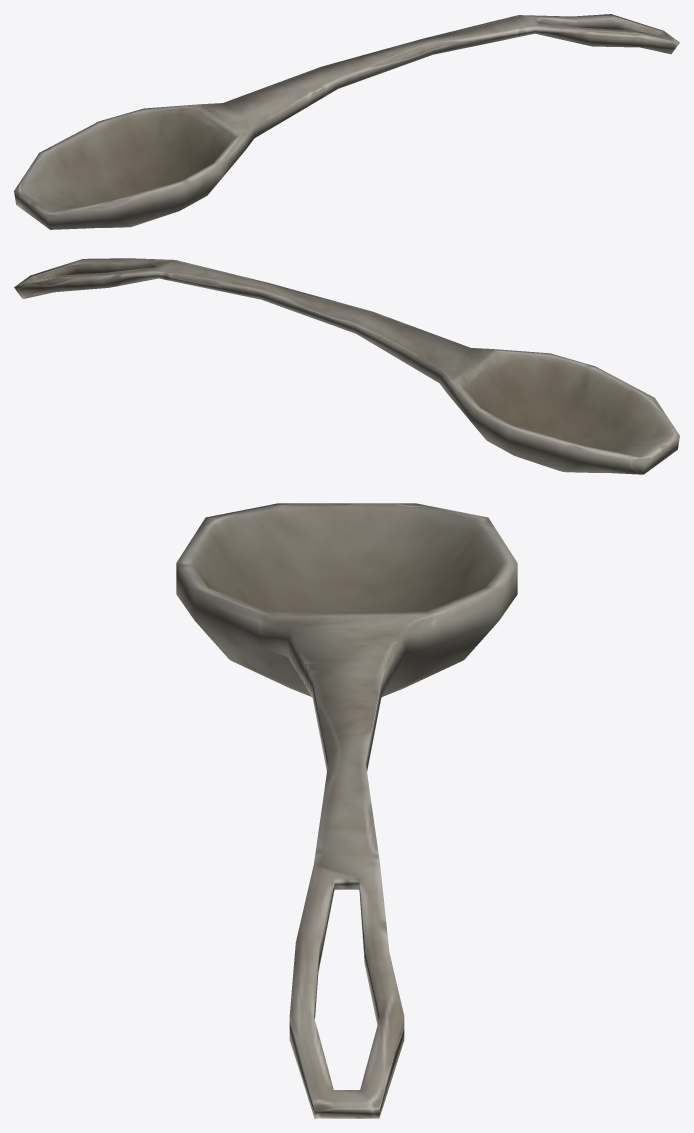
The model's file is Ladle.fbx.
3 renders of one model, top to bottom at view 1: azimuth 30°, elevation 25°; view 2: azimuth 150°, elevation 25°; view 3: azimuth 270°, elevation 25°, orthographic. The views are drawn at different scales.
Parts seen in each view (by area): view 1: U_Ladle; view 2: U_Ladle; view 3: U_Ladle.
Boxes of the visible parts, left/top/right/bottom form: U_Ladle: left=14, top=14, right=679, bottom=229; U_Ladle: left=14, top=258, right=679, bottom=474; U_Ladle: left=176, top=503, right=517, bottom=1118.
Size of the model in its own units: 137 by 20.88 by 31.63.
Materials: 1 (1 with a texture image).
